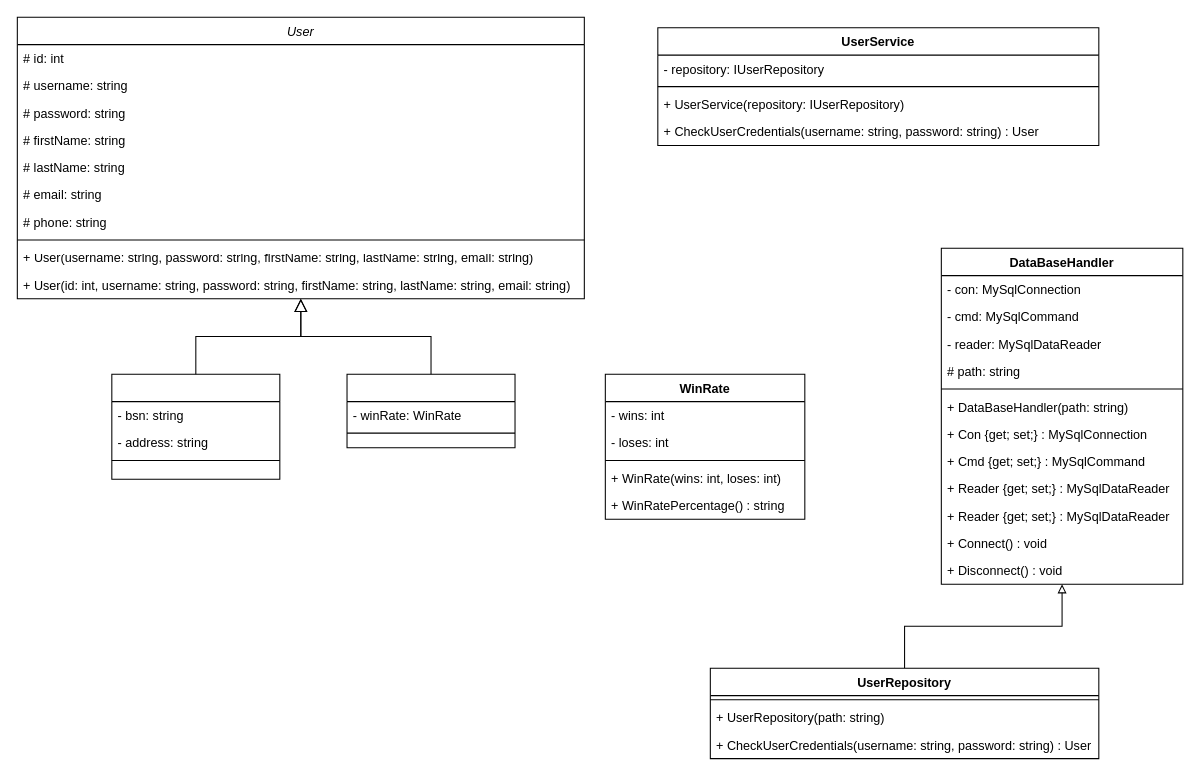
Image size: 1200x776. Some labels were removed from this diagram. The shapes that lost their labels are listed below. From the top down, each one's box as (x1, y1, x2, y2) in pixels, then its label:
(111, 373, 280, 479): Staff
(346, 373, 515, 448): Player
